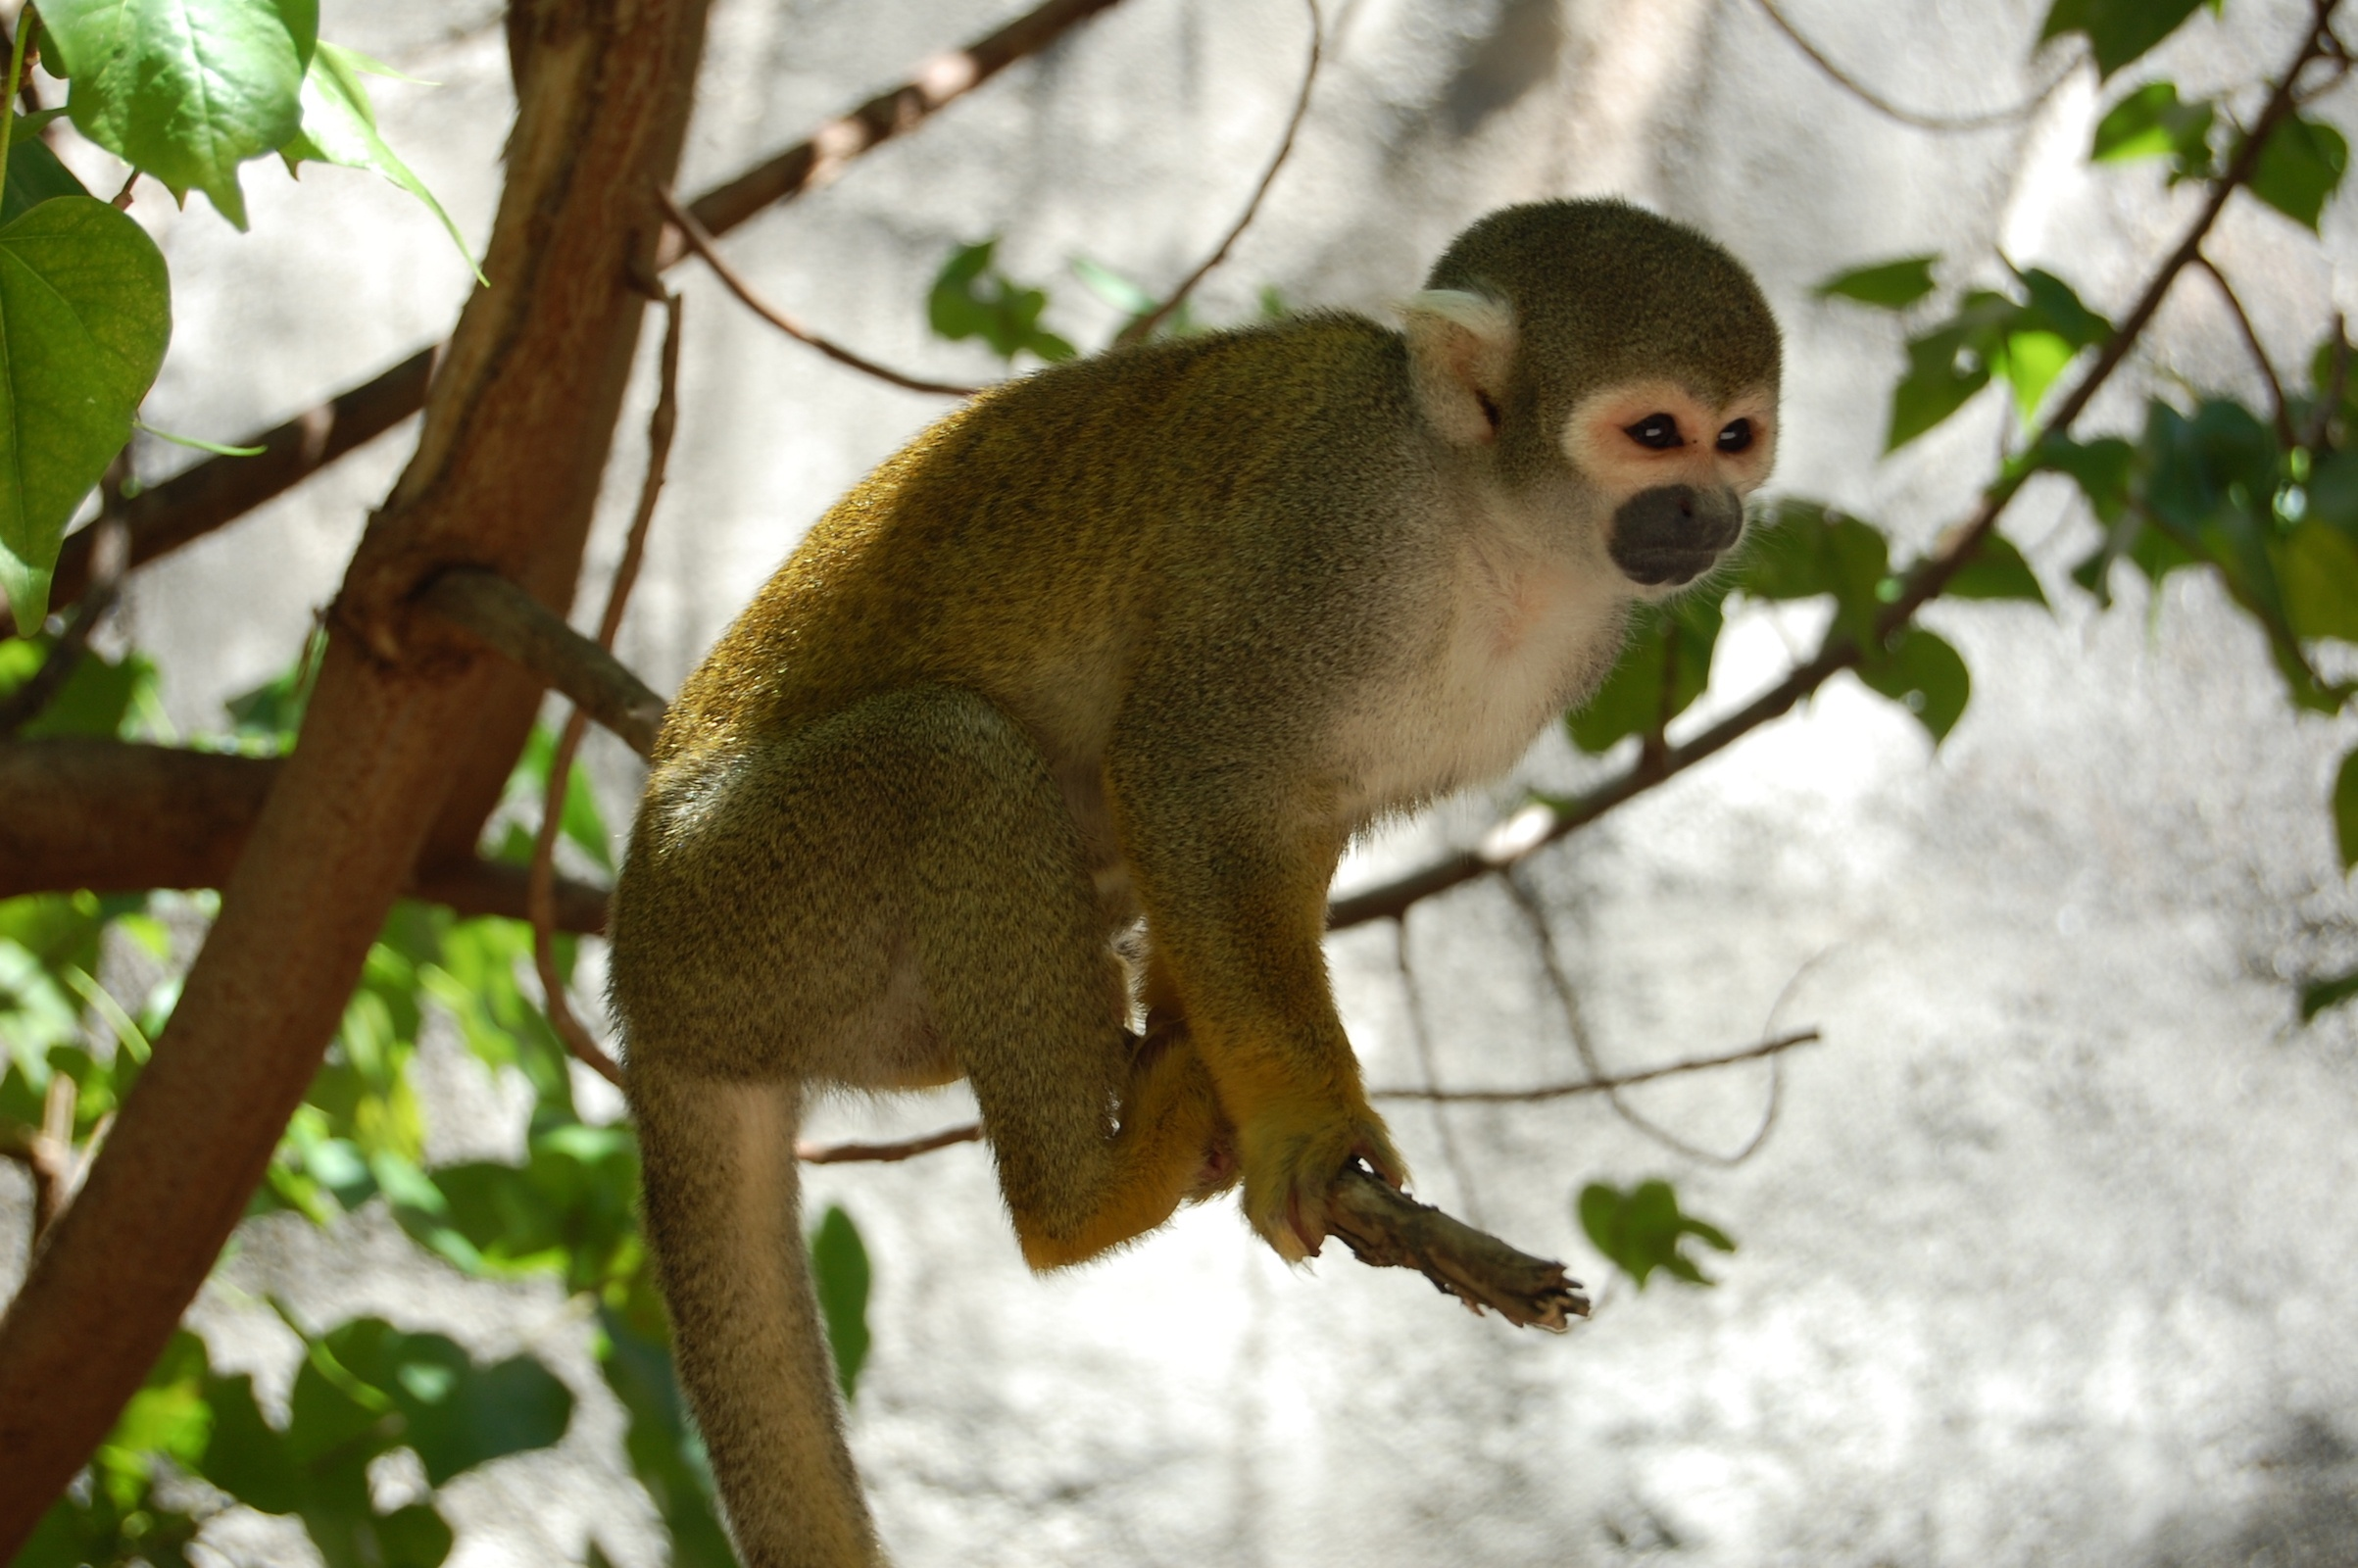monkey: (576, 182, 1812, 1568)
